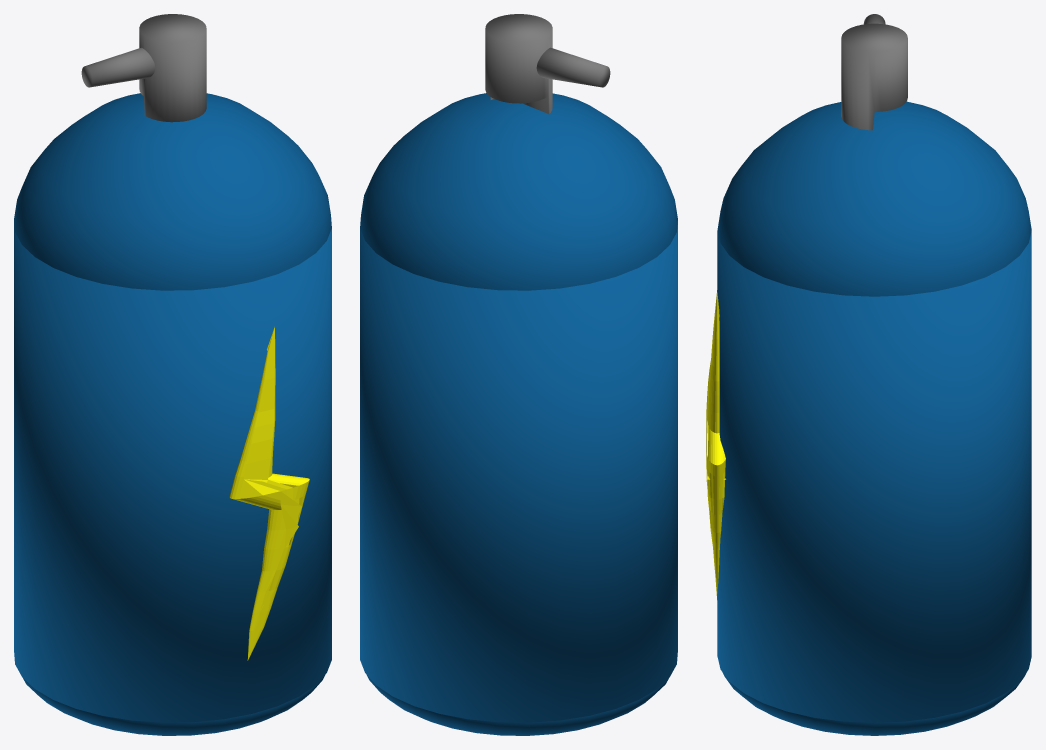
The model's file is spead_bonbe.fbx.
3 views of the same model, side by side, from view 1: azimuth 30°, elevation 25°; view 2: azimuth 150°, elevation 25°; view 3: azimuth 270°, elevation 25° (orthographic).
Parts seen in each view (by area): view 1: 円柱, 球; view 2: 円柱; view 3: 円柱, 球.
Part boxes in pixels (x1=…): 円柱: x1=14, y1=14, x2=331, y2=735; 球: x1=229, y1=327, x2=309, y2=660; 円柱: x1=360, y1=14, x2=677, y2=735; 円柱: x1=717, y1=14, x2=1031, y2=735; 球: x1=706, y1=290, x2=725, y2=599.
Size of the model in its own units: 200 by 475 by 207.
